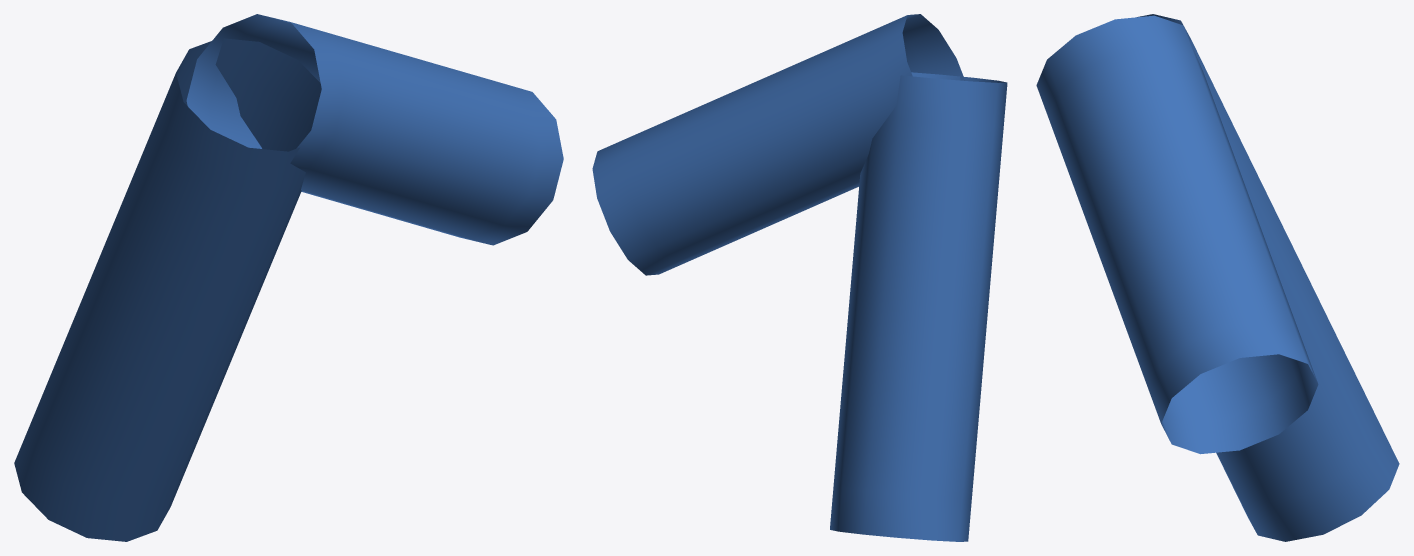
The picture shows the model from 3 angles, left to right: view 1: azimuth 30°, elevation 25°; view 2: azimuth 150°, elevation 25°; view 3: azimuth 270°, elevation 25°; orthographic projection. The views are drawn at different scales.
Visible parts, largest first — view 1: 肝静脉; view 2: 肝静脉; view 3: 肝静脉.
Part boxes in pixels (x1=…): 肝静脉: x1=14, y1=14, x2=563, y2=541; 肝静脉: x1=592, y1=14, x2=1007, y2=541; 肝静脉: x1=1036, y1=14, x2=1399, y2=541.
Size of the model in its own units: 0.0343 by 0.0378 by 0.0228.
